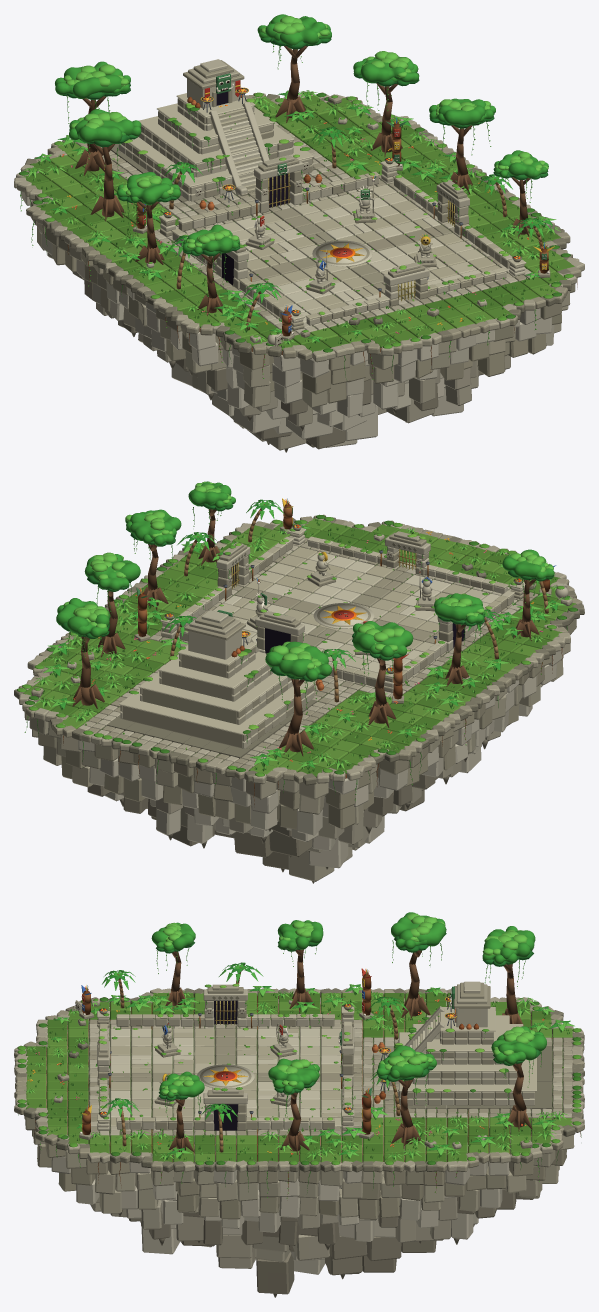
File: arene-temple.glb
3 renders of one model, top to bottom at view 1: azimuth 30°, elevation 25°; view 2: azimuth 150°, elevation 25°; view 3: azimuth 270°, elevation 25°, orthographic. The views are drawn at different scales.
Parts seen in each view (by area): view 1: pyramide_corniche.001, pyramide_corniche, feuillage.002, feuillage.014, pyramide_corniche.002, feuillage.017, feuillage.011, feuillage.008, feuillage.005, pierre_fond.087, rampe, feuillage.020 (+6 smaller); view 2: pyramide_corniche, pyramide, pyramide_corniche.001, pyramide.001, pyramide_corniche.002, sanctuaire, feuillage.014, pyramide.002, feuillage.002, feuillage.017, feuillage.011, feuillage.008 (+12 smaller); view 3: pyramide_corniche, pierre_fond.316, feuillage.002, pyramide_corniche.002, feuillage.014, feuillage.017, pyramide_corniche.001, pierre_fond.413, feuillage.011, pierre_fond.421, pierre_fond.417, feuillage.008 (+10 smaller).
Part boxes in pixels (x1,y1,x2,y2): pyramide_corniche.001: (139,116,294,163); pyramide_corniche: (129,137,313,187); feuillage.002: (74,109,134,143); feuillage.014: (64,61,122,98); pyramide_corniche.002: (157,103,274,140); feuillage.017: (265,14,326,45); feuillage.011: (438,98,485,125); feuillage.008: (127,172,172,205); feuillage.005: (360,56,414,82); pierre_fond.087: (233,407,280,433); rampe: (209,110,241,194); feuillage.020: (187,224,233,253); pyramide_corniche: (119,679,315,735); pyramide: (122,706,243,748); pyramide_corniche.001: (139,672,286,711); pyramide.001: (142,688,237,724); pyramide_corniche.002: (158,651,266,688); sanctuaire: (188,629,241,659); feuillage.014: (265,641,328,677); pyramide.002: (161,671,232,700); feuillage.002: (353,621,413,650); feuillage.017: (56,598,110,633); feuillage.011: (130,509,181,540); feuillage.008: (434,593,483,620); pyramide_corniche: (399,1032,536,1091); pierre_fond.316: (256,1252,294,1294); feuillage.002: (391,912,446,946); pyramide_corniche.002: (426,1015,509,1051); feuillage.014: (483,929,535,959); feuillage.017: (491,1026,546,1060); pyramide_corniche.001: (412,1024,523,1071); pierre_fond.413: (366,1236,401,1260); feuillage.011: (268,1058,318,1085); pierre_fond.421: (292,1234,329,1260); pierre_fond.417: (329,1236,367,1259); feuillage.008: (277,920,323,949).
Size of the model in its own units: 40.23 by 31.58 by 54.21.
